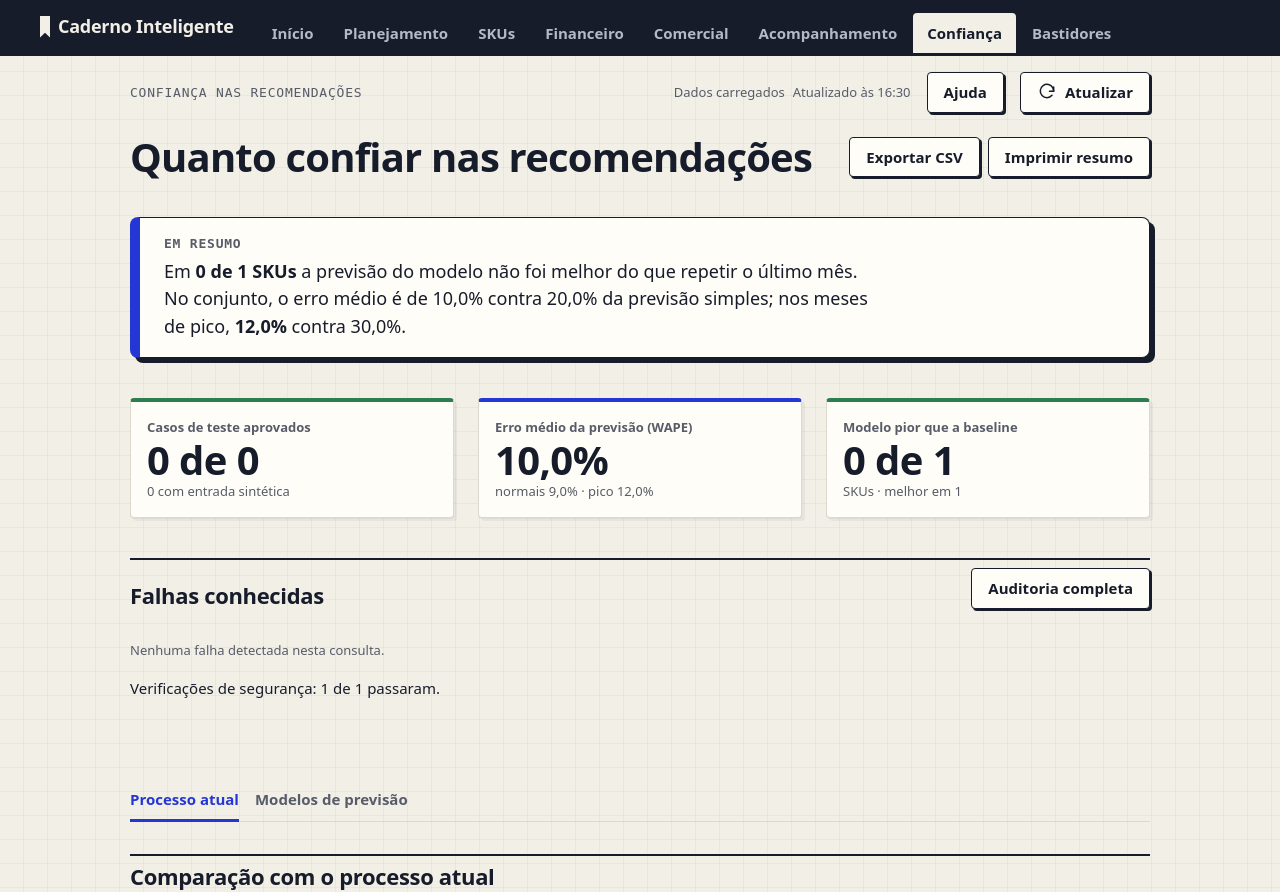
laboratório de previsão na Validação › mostra a avaliação com meses de pico que decidiu a promoção
Expected: the heading "Em resumo" is shown, [164,236,242,251]
Step 1. Click the tab "Modelos de previsão" → (331, 801), box [255,780,408,822]
(page scrolled)
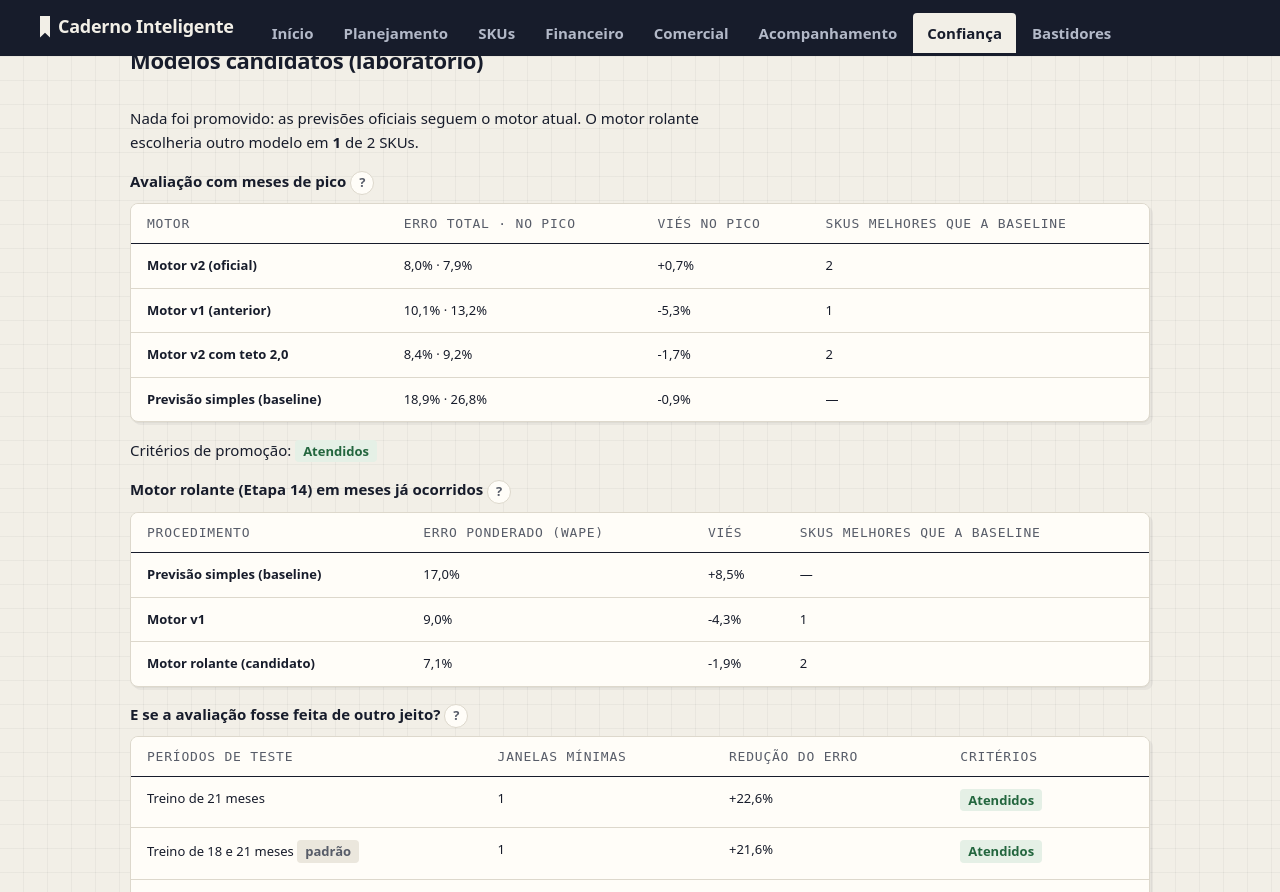
Expected: the row "Motor v2 (oficial) 8,0% · 7,9% +0,7% 2" is shown, [131,244,1149,288]
Expected: the row "Motor v1 (anterior) 10,1% · 13,2% -5,3% 1" is shown, [131,288,1149,333]
Expected: the text "Critérios de promoção: Atendidos" is shown, [130,440,377,462]
